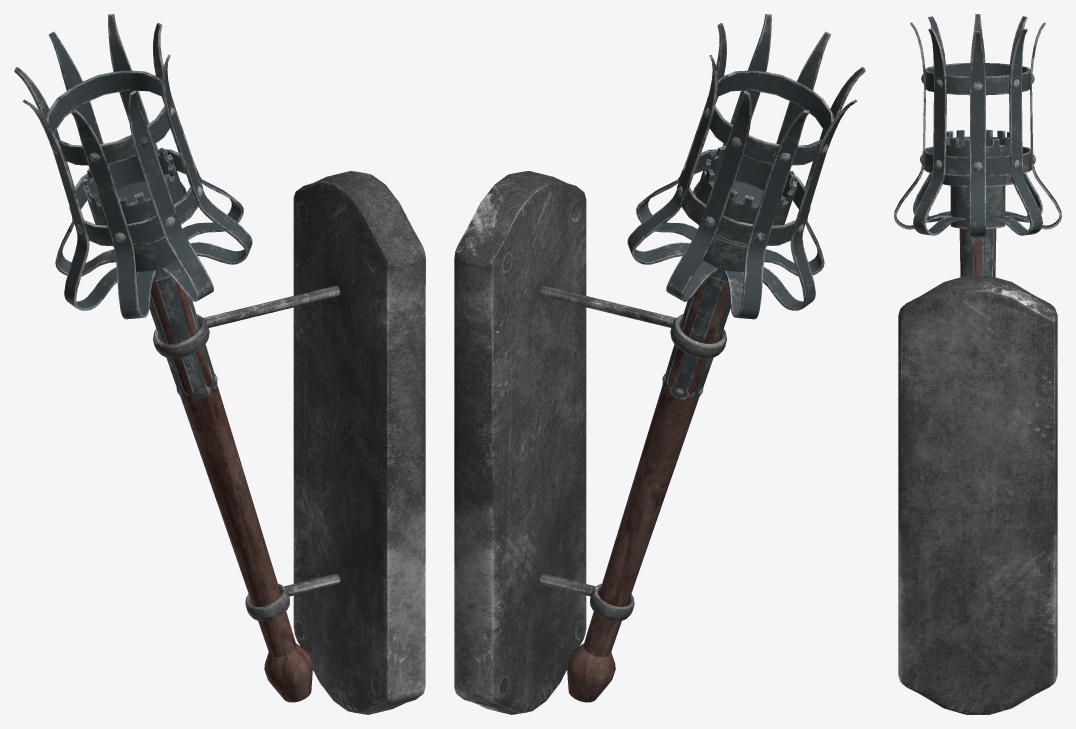
File: TorchSconce.gltf
The picture shows the model from 3 angles, left to right: view 1: azimuth 30°, elevation 25°; view 2: azimuth 150°, elevation 25°; view 3: azimuth 270°, elevation 25°; orthographic projection. The views are drawn at different scales.
Visible parts, largest first — view 1: SM_Torch_Sconce_6; view 2: SM_Torch_Sconce_6; view 3: SM_Torch_Sconce_6.
Part boxes in pixels (<box>): SM_Torch_Sconce_6: <box>14,14,425,714</box>; SM_Torch_Sconce_6: <box>454,14,865,714</box>; SM_Torch_Sconce_6: <box>894,14,1061,714</box>.
Bounding box in the file's own units: 0.4436 × 0.8645 × 0.2197.
2 materials, 2 textured.
